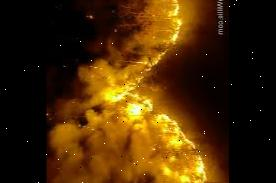fire: (106, 93, 219, 183), (116, 0, 188, 88)
